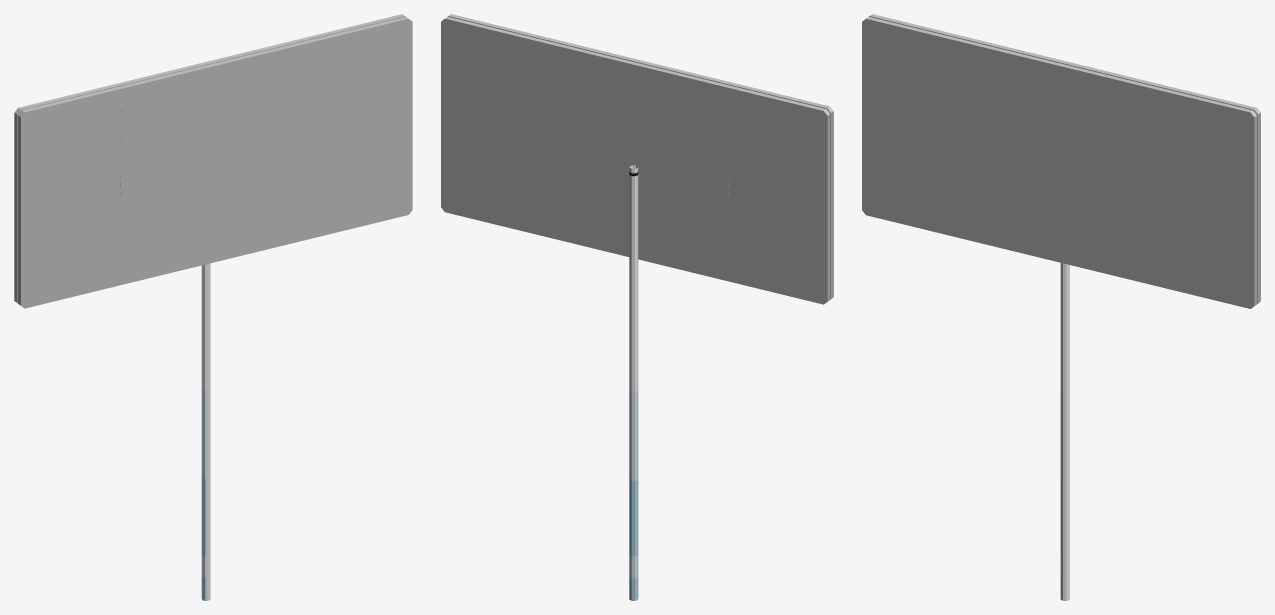
Rendered from Ban03.fbx.
3 views of the same model, side by side, from view 1: azimuth 30°, elevation 25°; view 2: azimuth 150°, elevation 25°; view 3: azimuth 330°, elevation 25° (orthographic).
Parts seen in each view (by area): view 1: Ban (×2), handle, c11, c15, c20, c6, c10, c5, c1, c16, c9, c21 (+15 smaller); view 2: Ban (×2), handle, c11, c15, c20, c6, c10, c5, c1, c16, c9, c21 (+15 smaller); view 3: Ban (×2), handle, c11, c15, c20, c6, c10, c5, c1, c16, c9, c21 (+15 smaller).
Boxes of the visible parts, x1=… form: Ban (×2): x1=14, y1=14, x2=412, y2=308; handle: x1=201, y1=263, x2=210, y2=600; c11: x1=273, y1=119, x2=321, y2=167; c15: x1=120, y1=157, x2=166, y2=205; c20: x1=272, y1=160, x2=320, y2=205; c6: x1=120, y1=121, x2=166, y2=168; c10: x1=274, y1=82, x2=321, y2=130; c5: x1=119, y1=84, x2=165, y2=131; c1: x1=274, y1=47, x2=321, y2=91; c16: x1=121, y1=195, x2=165, y2=242; c9: x1=238, y1=91, x2=279, y2=139; c21: x1=272, y1=198, x2=321, y2=238; Ban (×2): x1=441, y1=14, x2=833, y2=304; handle: x1=629, y1=165, x2=638, y2=600; c11: x1=530, y1=118, x2=578, y2=166; c15: x1=683, y1=156, x2=729, y2=203; c20: x1=532, y1=158, x2=579, y2=203; c6: x1=684, y1=119, x2=729, y2=166; c10: x1=530, y1=81, x2=576, y2=129; c5: x1=684, y1=83, x2=729, y2=129; c1: x1=530, y1=46, x2=576, y2=90; c16: x1=684, y1=193, x2=727, y2=239; c9: x1=572, y1=90, x2=613, y2=137; c21: x1=531, y1=196, x2=579, y2=235; Ban (×2): x1=862, y1=14, x2=1260, y2=308; handle: x1=1060, y1=263, x2=1069, y2=600; c11: x1=1115, y1=159, x2=1163, y2=210; c15: x1=961, y1=122, x2=1008, y2=170; c20: x1=1114, y1=197, x2=1162, y2=247; c6: x1=961, y1=84, x2=1007, y2=132; c10: x1=1116, y1=122, x2=1163, y2=170; c5: x1=961, y1=49, x2=1007, y2=93; c1: x1=1116, y1=86, x2=1163, y2=133; c16: x1=963, y1=160, x2=1007, y2=207; c9: x1=1079, y1=112, x2=1120, y2=159; c21: x1=1114, y1=233, x2=1162, y2=277.
Bounding box in the file's own units: 18.18 × 23.93 × 0.8827.
